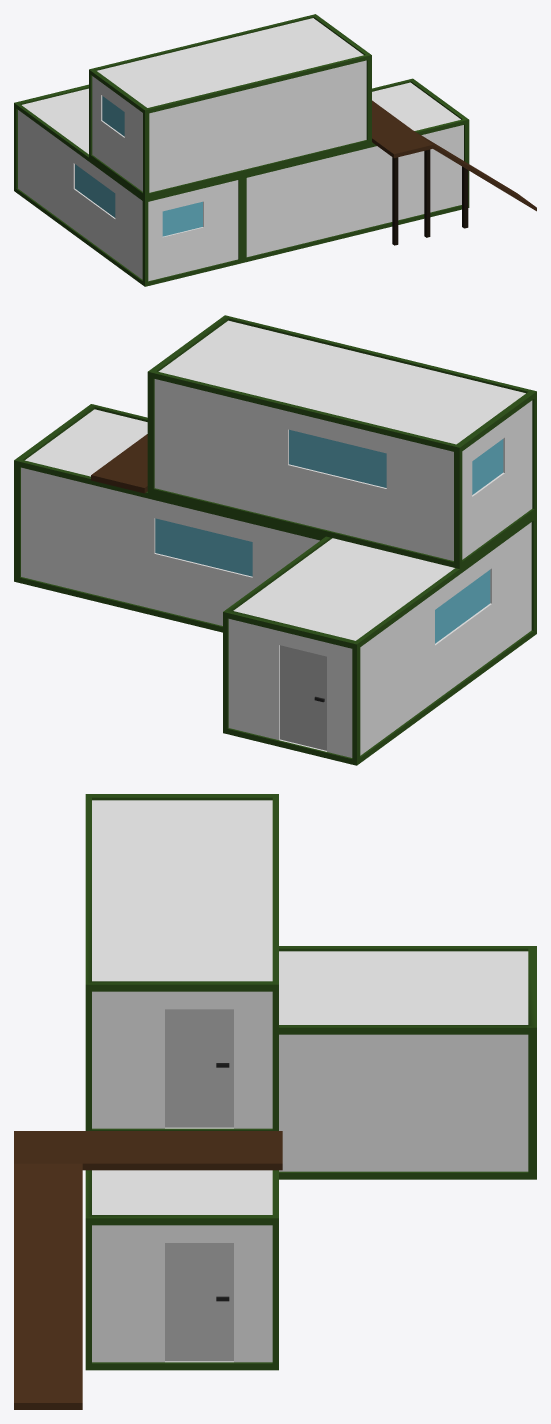
Rendered from Containers-Office.glb.
3 views of the same model, one above another, from view 1: azimuth 30°, elevation 25°; view 2: azimuth 150°, elevation 25°; view 3: azimuth 270°, elevation 25° (orthographic). The views are drawn at different scales.
Parts seen in each view (by area): view 1: Office Container Stack, Office Container Single Green; view 2: Office Container Stack, Office Container Single Green; view 3: Office Container Stack, Office Container Single Green.
Part boxes in pixels (box(x1,y1,x2,y2)): Office Container Stack: box(89, 14, 536, 262); Office Container Single Green: box(14, 84, 242, 286); Office Container Stack: box(14, 315, 536, 632); Office Container Single Green: box(223, 513, 536, 765); Office Container Stack: box(14, 794, 282, 1409); Office Container Single Green: box(279, 946, 536, 1179).
Bounding box in the file's own units: 11.45 × 5.2 × 8.11.
1 material, 1 textured.
